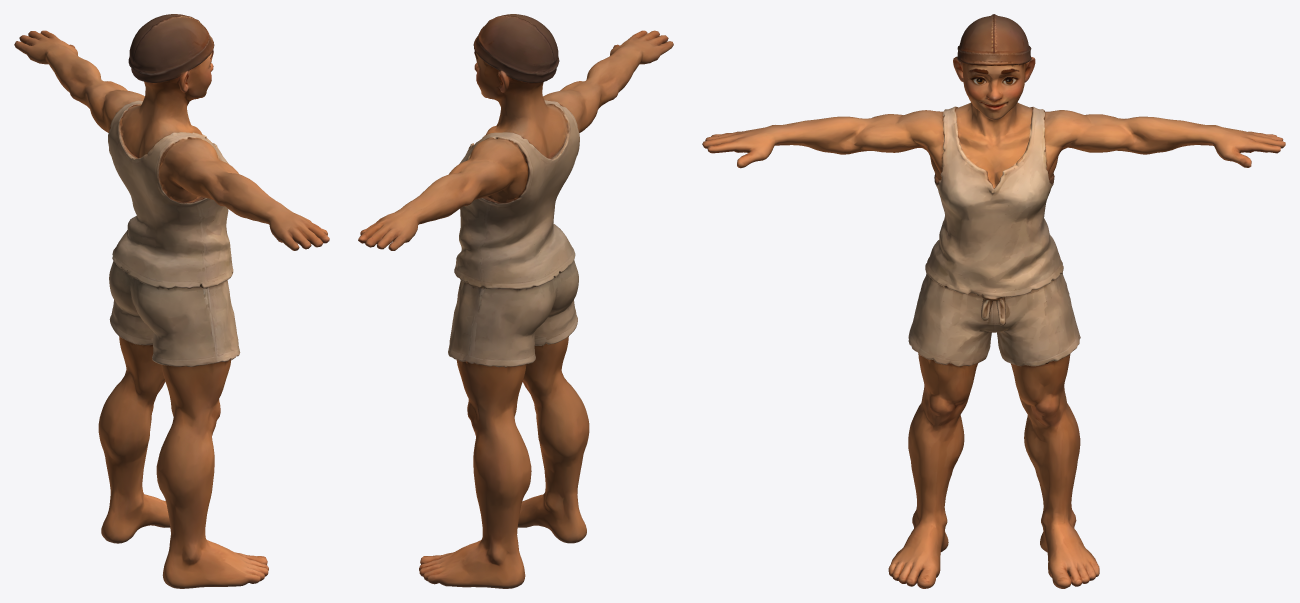
3 renders of one model, left to right at view 1: azimuth 30°, elevation 25°; view 2: azimuth 150°, elevation 25°; view 3: azimuth 270°, elevation 25°, orthographic.
Visible parts, largest first — view 1: tripo_node_5d7c5828-5455-4cba-b26e-94c6a3eb37b8; view 2: tripo_node_5d7c5828-5455-4cba-b26e-94c6a3eb37b8; view 3: tripo_node_5d7c5828-5455-4cba-b26e-94c6a3eb37b8.
Part boxes in pixels (x1,y1,x2,y2): tripo_node_5d7c5828-5455-4cba-b26e-94c6a3eb37b8: [14, 14, 329, 588]; tripo_node_5d7c5828-5455-4cba-b26e-94c6a3eb37b8: [358, 14, 673, 588]; tripo_node_5d7c5828-5455-4cba-b26e-94c6a3eb37b8: [702, 14, 1285, 588].
Size of the model in its own units: 0.2055 by 1 by 0.9717.
1 material, 1 textured.
